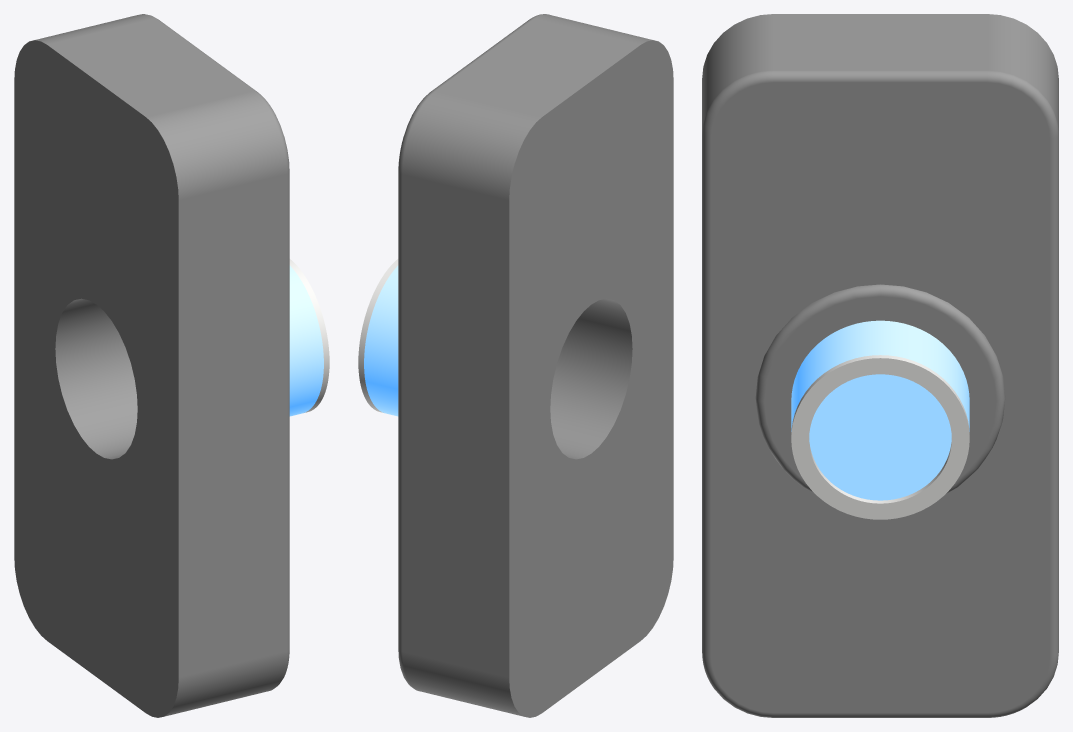
File: boutonbleu.gltf
3 views of the same model, side by side, from view 1: azimuth 30°, elevation 25°; view 2: azimuth 150°, elevation 25°; view 3: azimuth 270°, elevation 25° (orthographic). The views are drawn at different scales.
Visible parts, largest first — view 1: Body1.001, Body1, bande; view 2: Body1.001, Body1, bande; view 3: Body1.001, Body1, bande.
Boxes of the visible parts, x1,y1,x2,y2 form: Body1.001: (14,14,289,717); Body1: (289,265,323,416); bande: (289,259,329,412); Body1.001: (398,14,673,717); Body1: (364,265,398,416); bande: (358,259,398,412); Body1.001: (702,14,1058,717); Body1: (791,320,969,500); bande: (791,355,969,519).
Bounding box in the file's own units: 0.0674 × 0.2 × 0.1.
